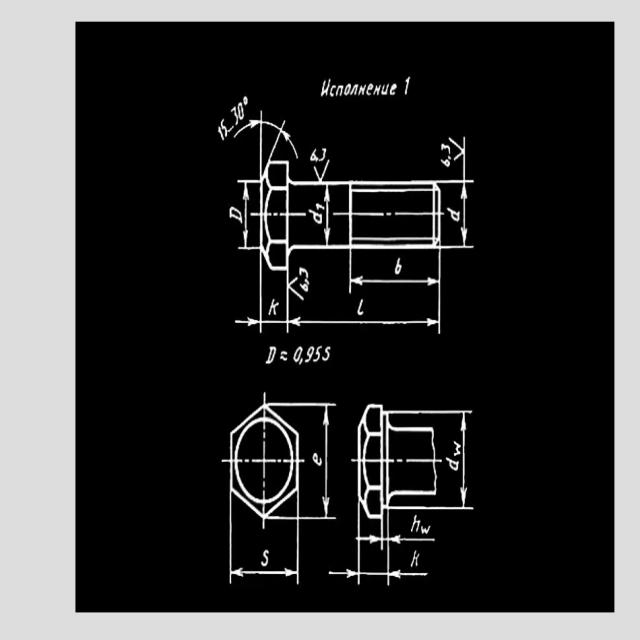marking_line: (236, 118, 301, 160), (289, 316, 438, 327), (352, 276, 437, 287), (322, 408, 330, 516), (232, 567, 296, 579), (460, 414, 468, 507), (322, 186, 332, 244), (242, 183, 250, 246), (461, 184, 469, 245), (389, 534, 437, 544), (390, 568, 428, 578), (328, 567, 357, 579), (353, 534, 381, 544), (233, 317, 259, 327)
numeric: (215, 98, 248, 139), (291, 344, 342, 365), (437, 141, 452, 167), (308, 145, 328, 163)
special_symbol: (290, 268, 311, 304), (450, 136, 465, 164)
